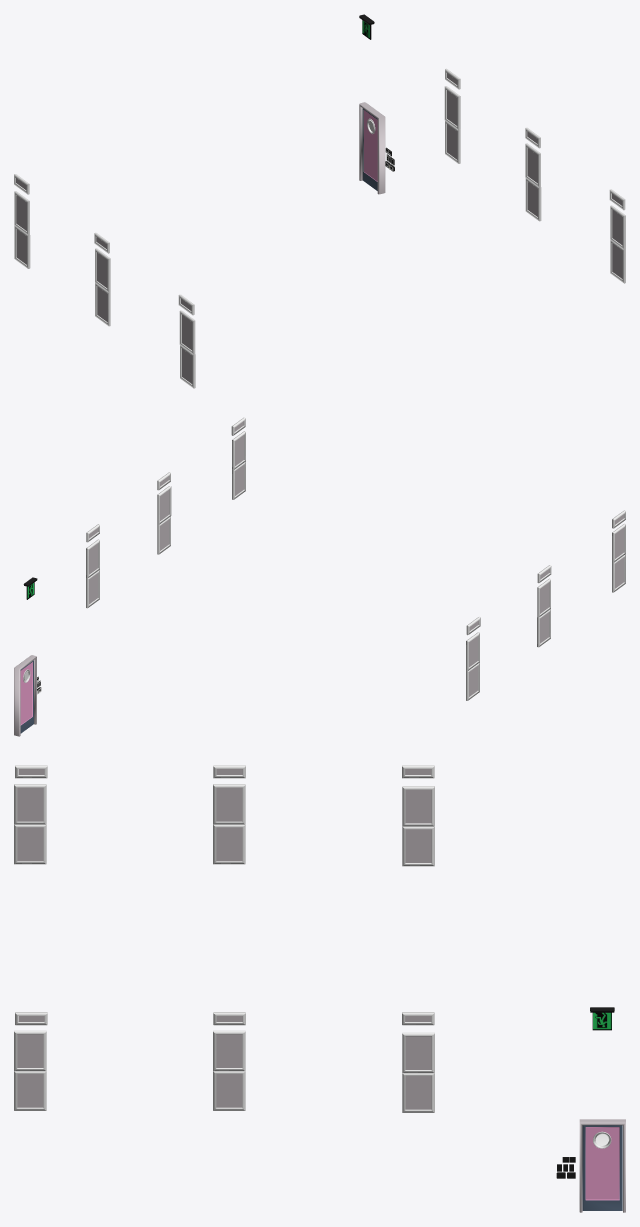
Rendered from MeshBaker (4)-mesh-mesh.fbx.
The picture shows the model from 3 angles, top to bottom: view 1: azimuth 30°, elevation 25°; view 2: azimuth 150°, elevation 25°; view 3: azimuth 270°, elevation 25°; orthographic projection. The views are drawn at different scales.
Visible parts, largest first — view 1: MeshBaker__4__mesh_mesh; view 2: MeshBaker__4__mesh_mesh; view 3: MeshBaker__4__mesh_mesh.
Part boxes in pixels (x1,y1,x2,y2): MeshBaker__4__mesh_mesh: [14, 14, 625, 388]; MeshBaker__4__mesh_mesh: [14, 417, 625, 736]; MeshBaker__4__mesh_mesh: [14, 765, 625, 1212].
Size of the model in its own units: 1601 by 599 by 1667.
